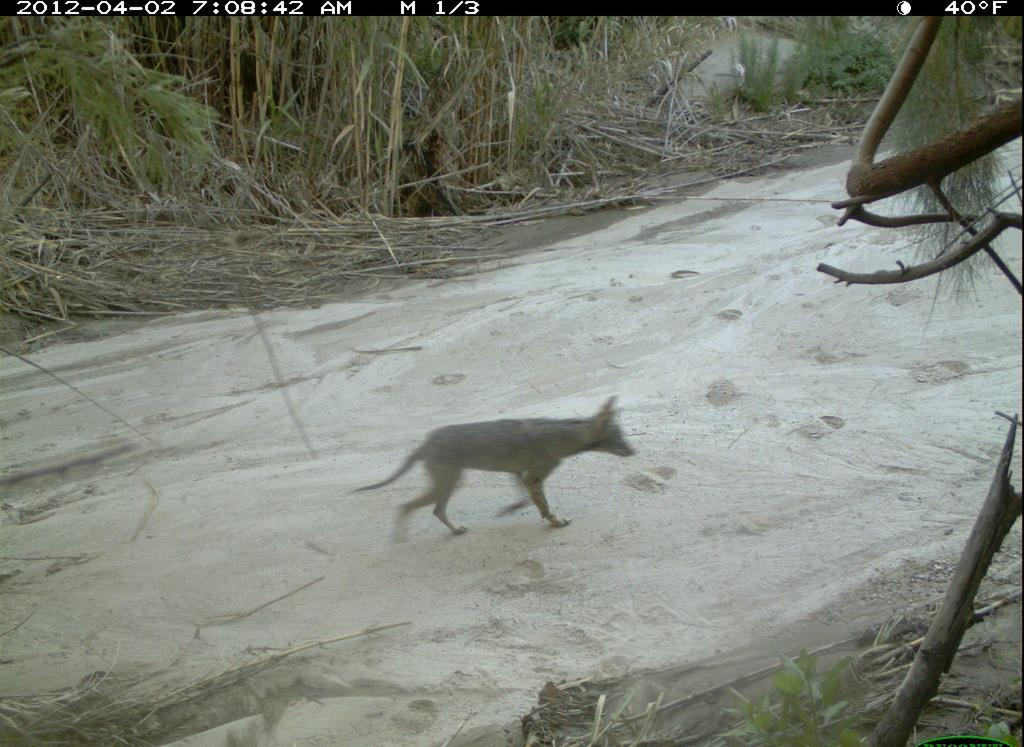coyote: (338, 393, 647, 552)
